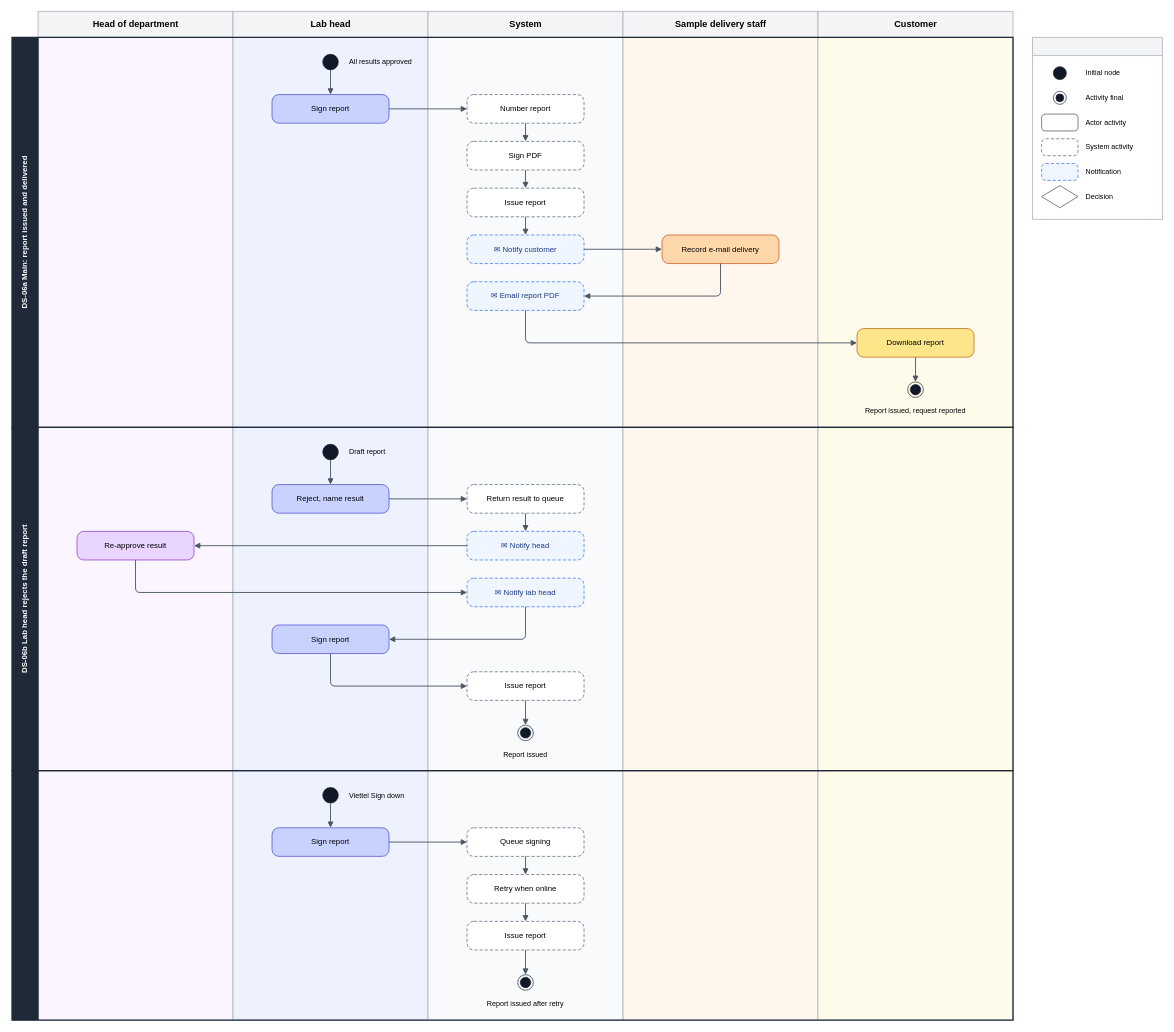
Image size: 1174x1032. Some labels were removed from this diagram. The box of each missing label's shape, as (x1, y1, x2, y2) in pixels:
DS-06c Viettel Sign unreachable: (11, 770, 1013, 1020)
Legend: (1032, 37, 1163, 219)
